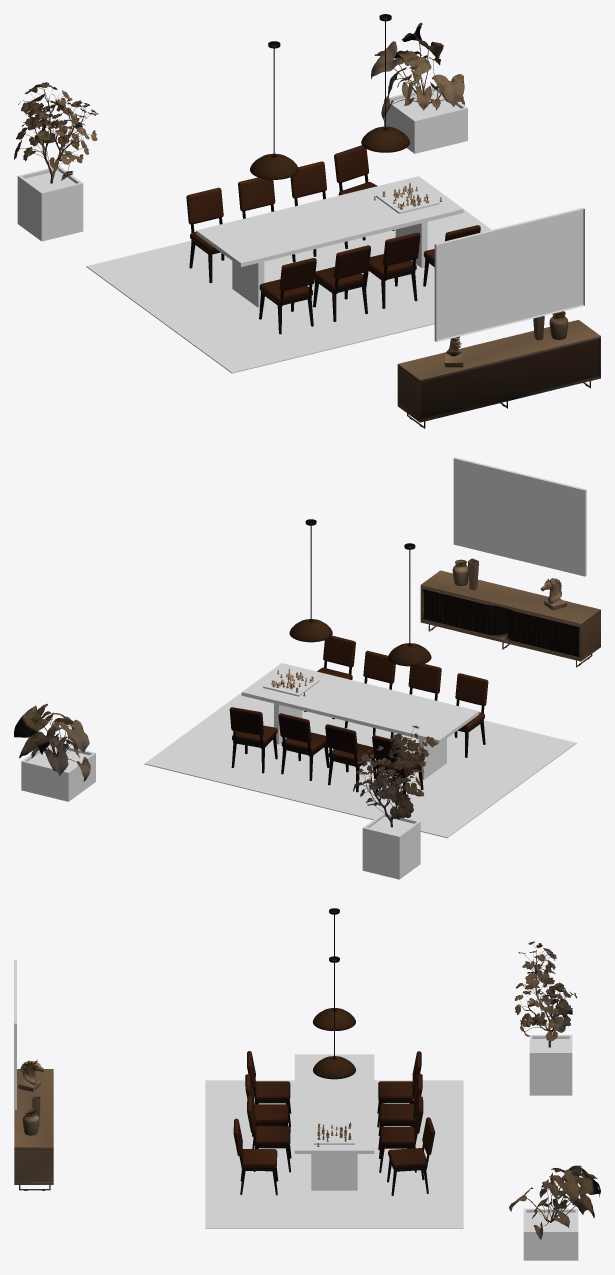
Rendered from dining.glb.
3 renders of one model, top to bottom at view 1: azimuth 30°, elevation 25°; view 2: azimuth 150°, elevation 25°; view 3: azimuth 270°, elevation 25°, orthographic. The views are drawn at different scales.
Parts seen in each view (by area): view 1: dining__ground__din, dining__ground__vtx; view 2: dining__ground__din, dining__ground__vtx; view 3: dining__ground__din, dining__ground__vtx.
Part boxes in pixels (x1,y1,x2,y2): dining__ground__din: (17, 86, 584, 373); dining__ground__vtx: (14, 14, 600, 428); dining__ground__din: (21, 457, 586, 879); dining__ground__vtx: (14, 519, 600, 827); dining__ground__din: (14, 959, 578, 1260); dining__ground__vtx: (14, 908, 600, 1239).
Bounding box in the file's own units: 5.99 × 3.2 × 7.73.
